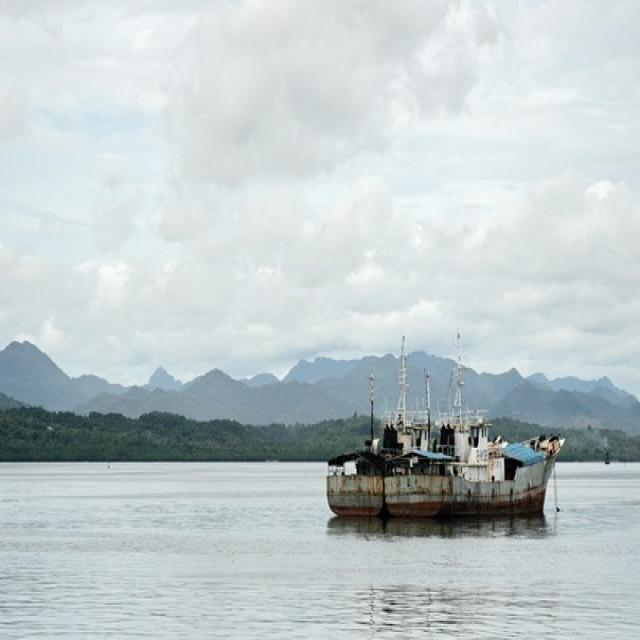fishing boat: (325, 328, 568, 513)
